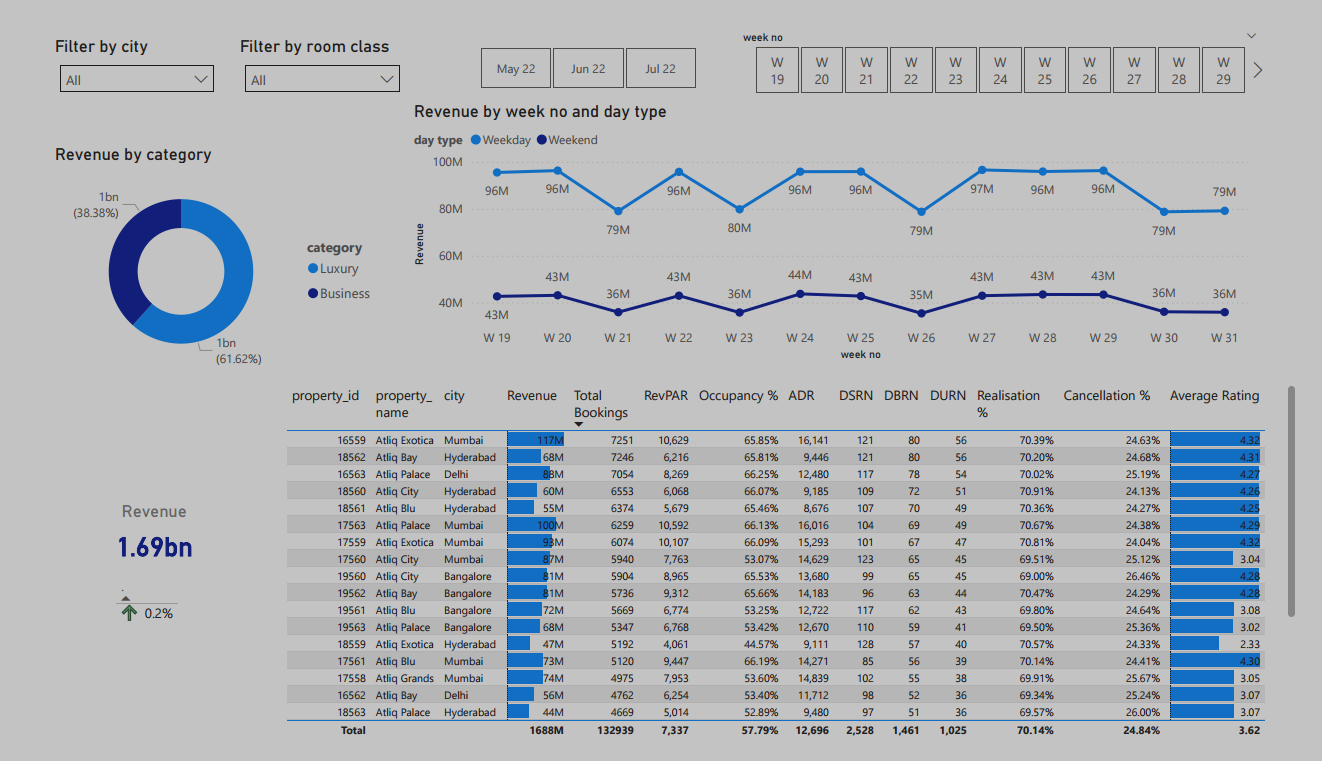

What the dashboard file says about the page in this screenshot:
{"tool":"powerbi","page":{"name":"Page 1","canvas":[1280,720],"ordinal":0},"visuals":[{"type":"tableEx","fields":{"Values":["dim_hotels.property_id","dim_hotels.property_name","dim_hotels.city","key_measures.Revenue","key_measures.Total Bookings","key_measures.RevPAR","key_measures.Occupancy %","key_measures.ADR","key_measures.DSRN","key_measures.DBRN","key_measures.DURN","key_measures.Realisation %"]},"box":[260.5,358.1,1019.8,361.6],"z":0},{"type":"slicer","title":"Filter by city","fields":{"Values":["dim_hotels.city"]},"box":[28.8,13.7,174.4,64.5],"z":1000},{"type":"slicer","title":"Filter by room class","fields":{"Values":["dim_rooms.room_class"]},"box":[214.2,13.7,174.4,64.5],"z":2000},{"type":"slicer","fields":{"Values":["dim_date.mmm yy"]},"box":[434,19.2,265.1,53.6],"z":3000},{"type":"slicer","fields":{"Values":["dim_date.week no"]},"box":[708.7,4.1,539.7,74.2],"z":4000},{"type":"card","title":"Revenue","fields":{"Values":["key_measures.Revenue"]},"box":[55.2,479.3,156.6,70],"z":5000},{"type":"tableEx","fields":{"Values":["key_measures.Revenue WoW change %"]},"box":[88.9,549.6,87.8,65.9],"z":6000},{"type":"lineChart","fields":{"Category":["dim_date.week no"],"Y":["key_measures.Revenue"],"Series":["dim_date.day type"]},"box":[388.4,79.1,844.2,265.1],"z":7000},{"type":"donutChart","fields":{"Category":["dim_hotels.category"],"Y":["key_measures.Revenue"]},"box":[29,122,336,236],"z":8000}]}

Visuals, with their boxes in screenshot pixels (x1, y1, x2, y2), scaled from the page's 1280x720 canvas onto the 1322x761 screenshot:
tableEx - dim_hotels.property_id x dim_hotels.property_name: (left=269, top=378, right=1321, bottom=760)
"Filter by city" slicer: (left=30, top=14, right=210, bottom=83)
"Filter by room class" slicer: (left=221, top=14, right=401, bottom=83)
slicer - dim_date.mmm yy: (left=448, top=20, right=722, bottom=77)
slicer - dim_date.week no: (left=732, top=4, right=1289, bottom=83)
"Revenue" card: (left=57, top=507, right=219, bottom=581)
tableEx - key_measures.Revenue WoW change %: (left=92, top=581, right=182, bottom=651)
lineChart - dim_date.week no x key_measures.Revenue: (left=401, top=84, right=1273, bottom=364)
donutChart - dim_hotels.category x key_measures.Revenue: (left=30, top=129, right=377, bottom=378)
